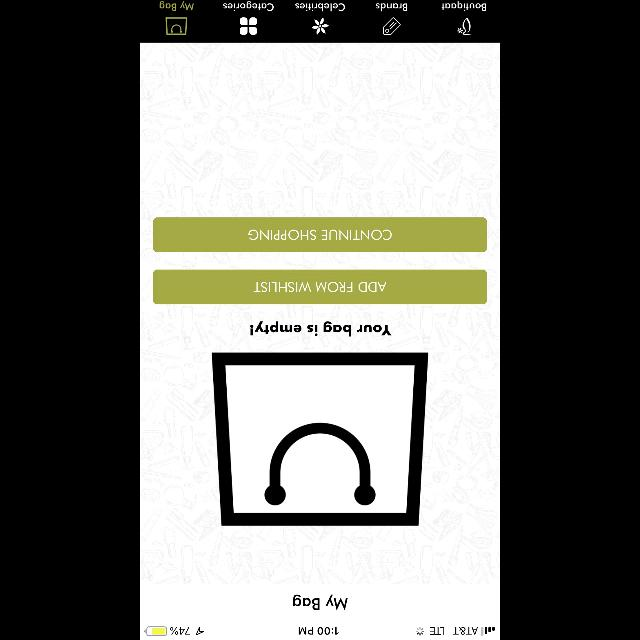backgroundimage: (140, 42, 500, 584)
icon: (165, 18, 187, 34), (384, 18, 401, 34), (240, 18, 256, 34)
image: (212, 352, 428, 526), (456, 17, 472, 35), (312, 18, 328, 34)
text: (250, 322, 392, 336), (292, 594, 348, 610), (222, 1, 274, 11), (442, 1, 486, 11), (295, 3, 345, 11), (160, 1, 194, 11), (376, 3, 406, 11)
textbutton: (154, 270, 486, 304), (154, 218, 486, 252)
uppertaskbar: (140, 626, 500, 640)
